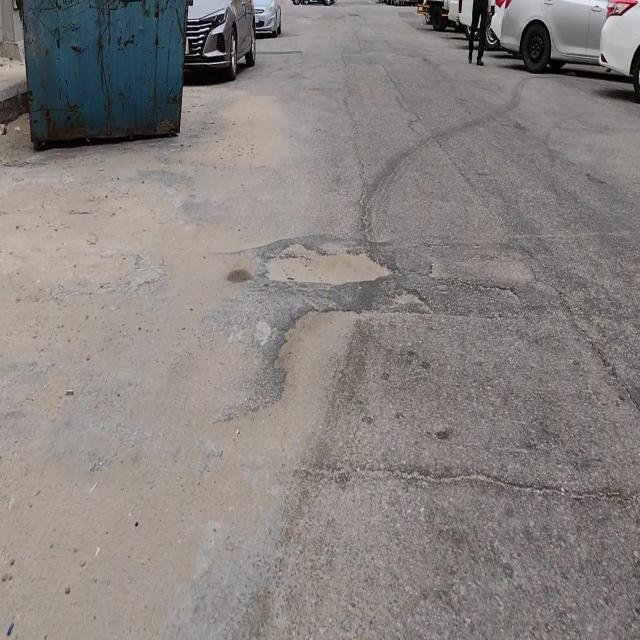Pothole: (266, 242, 391, 287)
